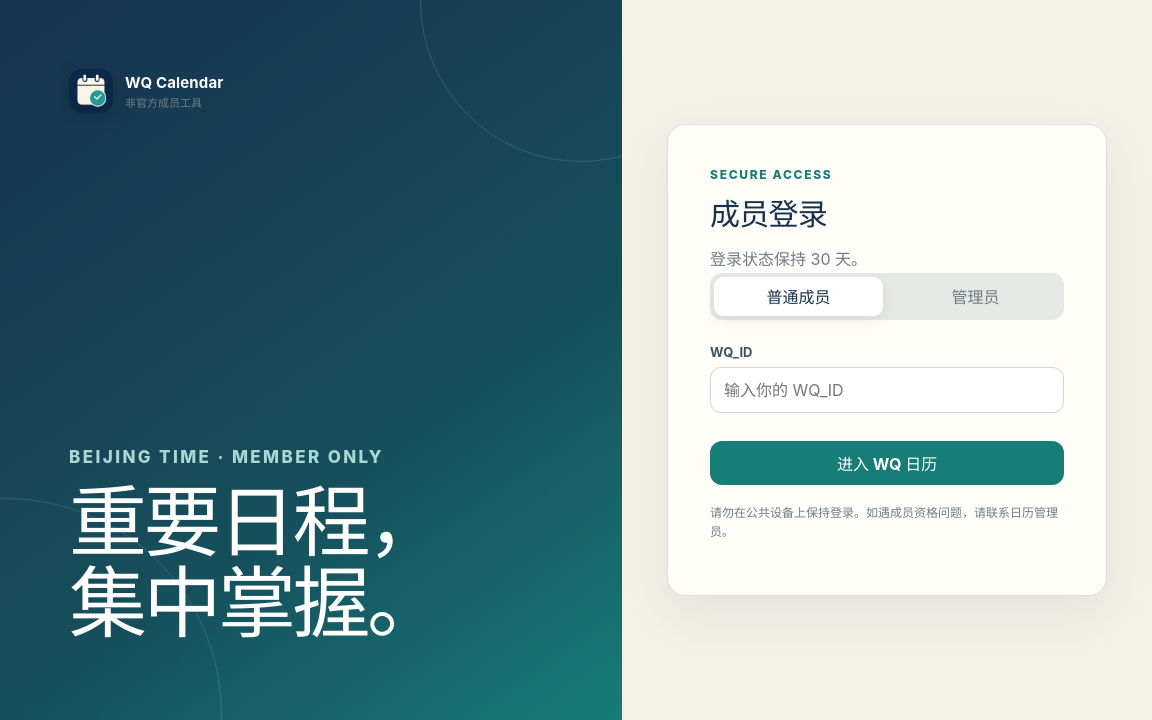
Test: LoginView › asks for human verification without sending a login request
The image size is (1152, 720).
Expected: the submit button reads "进入 WQ 日历", [710,441,1064,485]
Type "KZ79256" into the field with id "wq-id". click: (887, 390)
box: [710,367,1064,413]
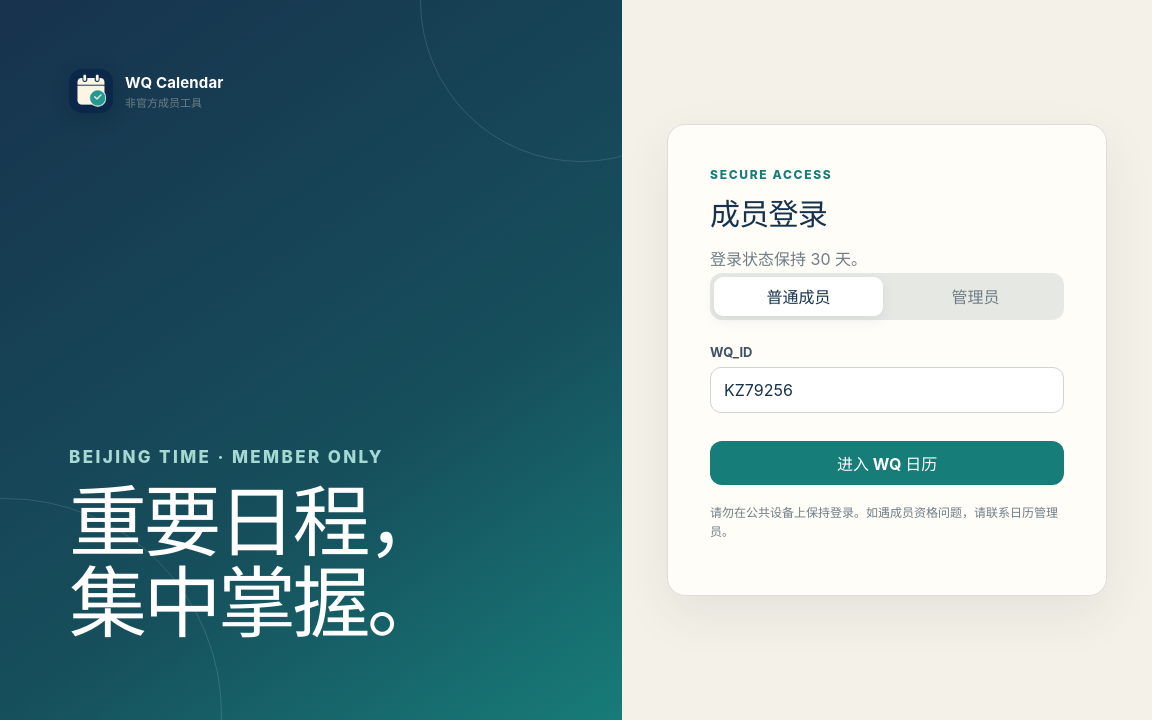
Submit the form, box [710,344,1064,485]
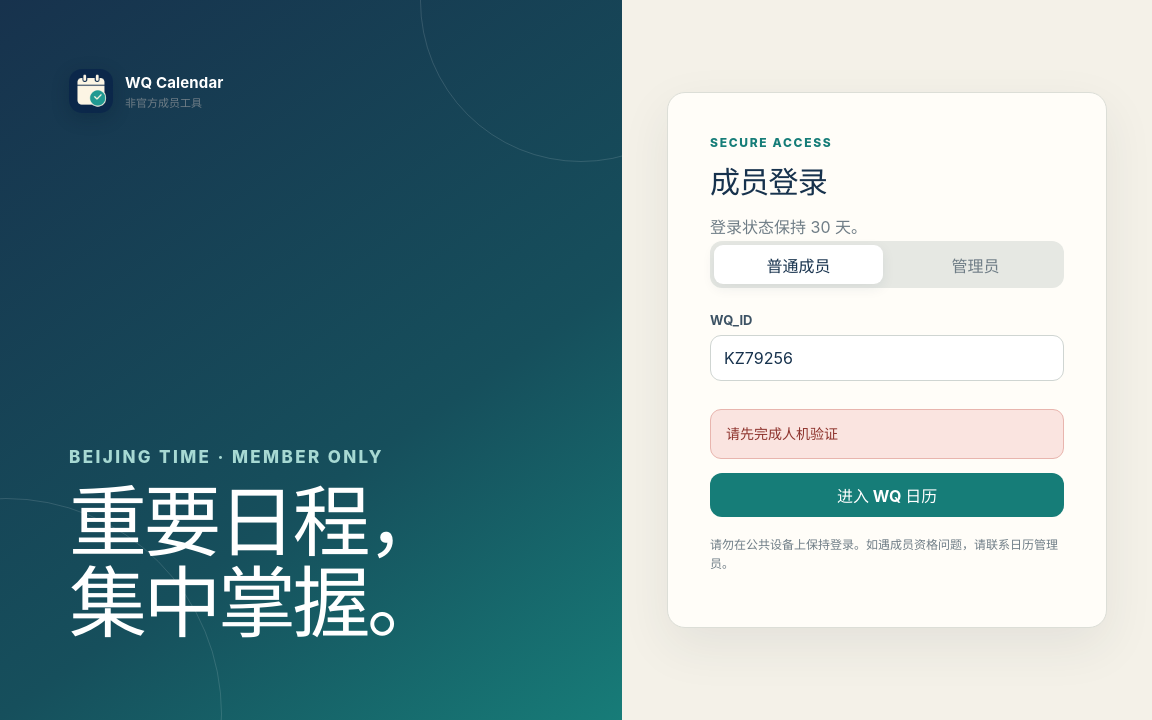
Expected: the submit button is enabled, [710,473,1064,517]
Expected: the message "请先完成人机验证" is shown, [710,409,1064,459]
